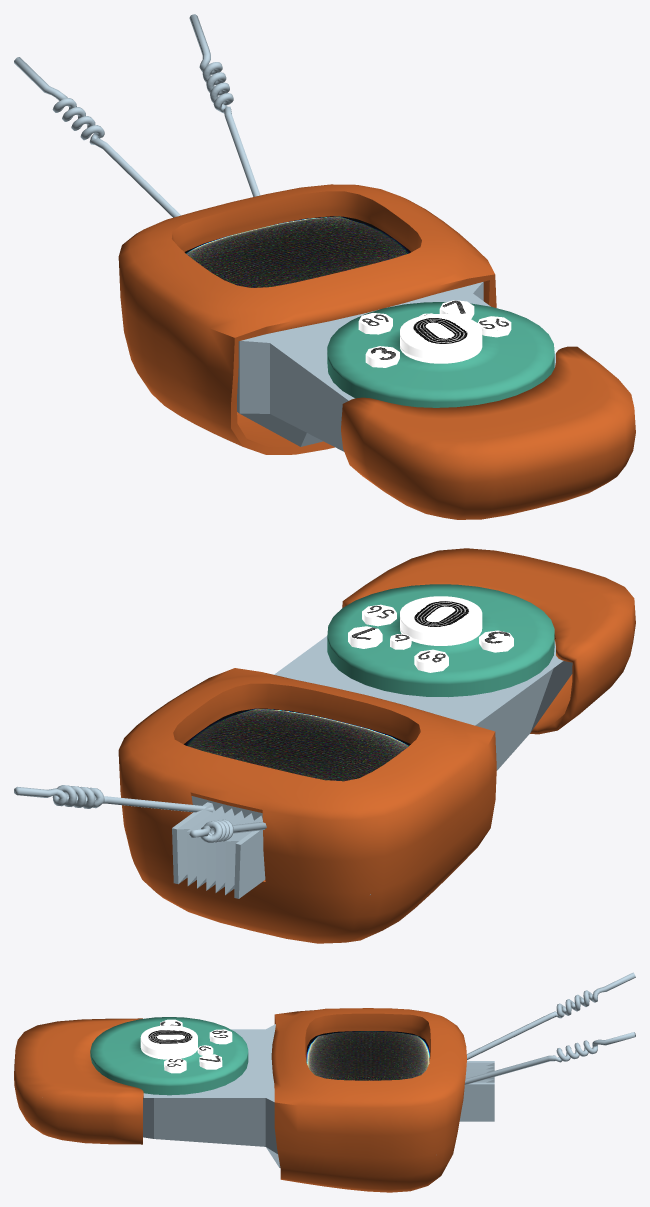
The model's file is Scanner.glb.
The picture shows the model from 3 angles, top to bottom: view 1: azimuth 30°, elevation 25°; view 2: azimuth 150°, elevation 25°; view 3: azimuth 270°, elevation 25°; orthographic projection. The views are drawn at different scales.
Visible parts, largest first — view 1: Cube.002, Cube.003, Cube.004, Cube.001, Cube.005, Cylinder.001; view 2: Cube.002, Cube.004, Cube.003, Cube.001, Cube, Cube.005, Cylinder.001; view 3: Cube.002, Cube.003, Cube.001, Cube.004, Cube.005, Cube, Cylinder.001.
Part boxes in pixels (x1,y1,x2,y2): Cube.002: (118,184,496,454); Cube.003: (341,346,635,519); Cube.004: (327,302,554,407); Cube.001: (237,282,555,451); Cube.005: (14,14,260,217); Cylinder.001: (358,300,511,367); Cube.002: (118,668,496,943); Cube.004: (327,584,554,697); Cube.003: (342,548,635,734); Cube.001: (126,636,572,894); Cube: (172,802,265,898); Cube.005: (14,785,266,842); Cylinder.001: (348,604,513,672); Cube.002: (271,1008,466,1192); Cube.003: (14,1018,143,1144); Cube.001: (143,1024,280,1167); Cube.004: (90,1017,248,1095); Cube.005: (464,972,635,1084); Cube: (459,1061,494,1121); Cylinder.001: (160,1019,232,1073).
Bounding box in the file's own units: 0.4072 × 0.3193 × 1.09.
5 materials, 2 textured.
